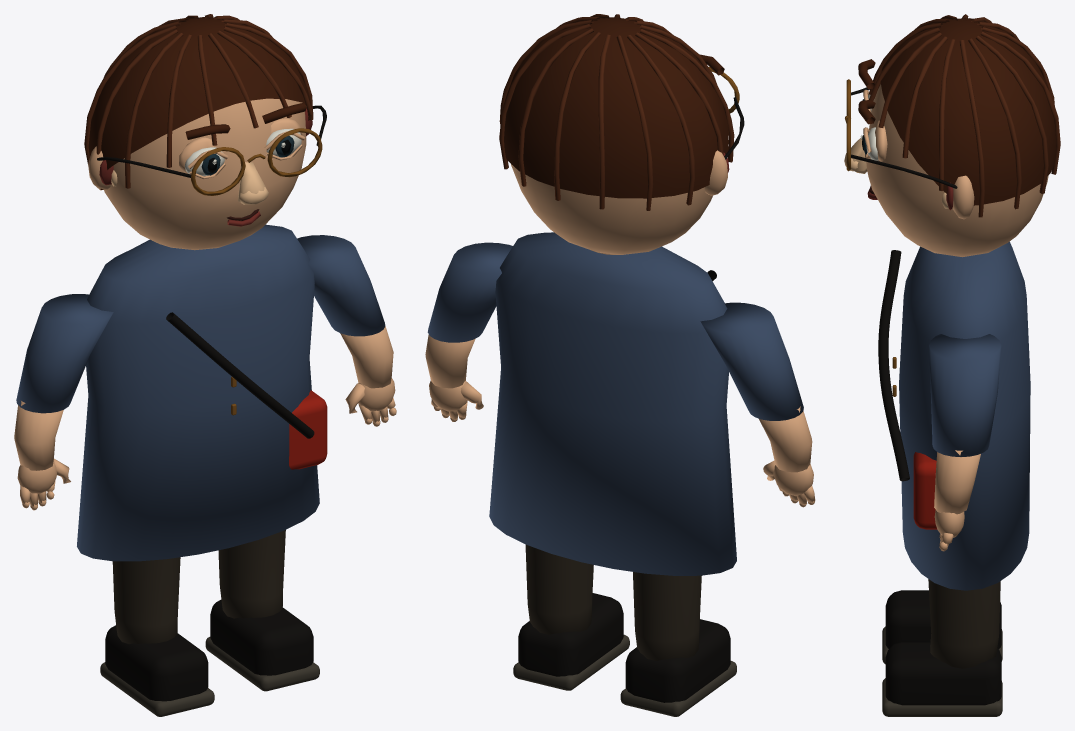
Rendered from patient-40.glb.
The picture shows the model from 3 angles, left to right: view 1: azimuth 30°, elevation 25°; view 2: azimuth 150°, elevation 25°; view 3: azimuth 270°, elevation 25°; orthographic projection.
Parts seen in each view (by area): view 1: Body, Head, LegL, LegR, ArmL, ArmR; view 2: Body, Head, LegL, LegR, ArmL, ArmR; view 3: Head, Body, LegR, ArmR, LegL.
Boxes of the visible parts, x1,y1,x2,y2 form: Body: (77,224,327,561); Head: (84,14,326,250); LegL: (100,557,214,716); LegR: (205,530,319,691); ArmL: (14,294,113,510); ArmR: (297,235,396,426); Body: (489,232,736,575); Head: (499,14,744,254); LegL: (620,572,736,716); LegR: (513,544,629,690); ArmL: (700,302,815,507); ArmR: (425,242,512,421); Head: (844,14,1060,257); Body: (878,241,1030,590); LegR: (882,579,1002,716); ArmR: (929,334,1001,551); LegL: (882,590,1002,664).
Size of the model in its own units: 0.7898 by 1.3 by 0.3927.
